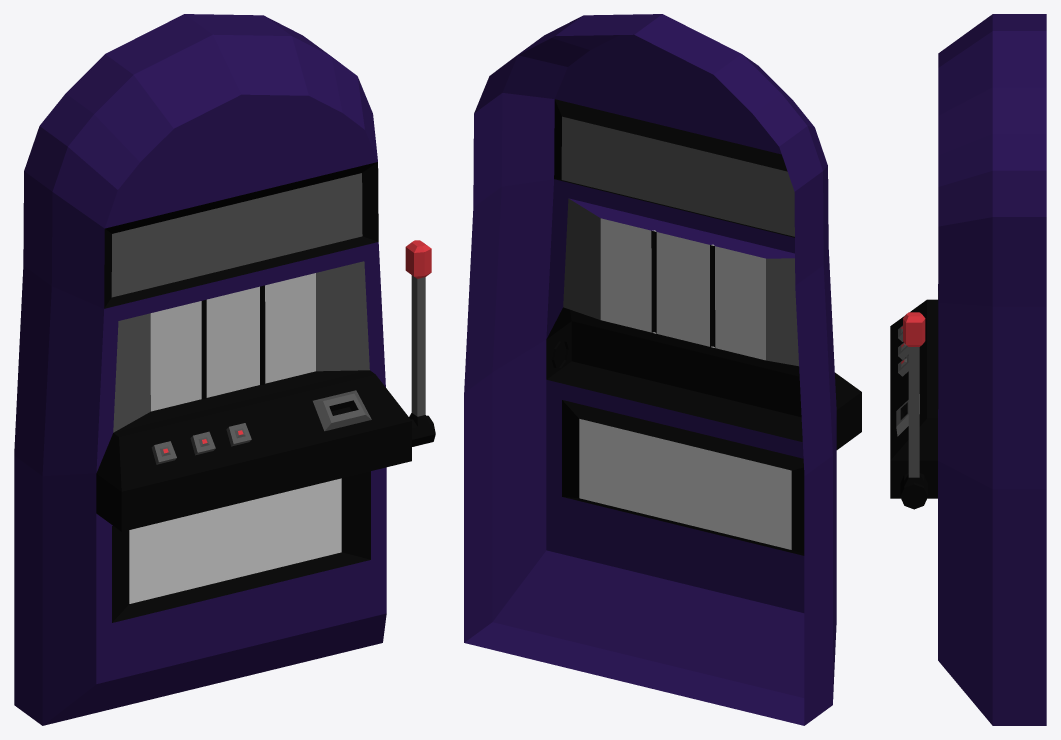
File: Gambling Machine.fbx
The picture shows the model from 3 angles, left to right: view 1: azimuth 30°, elevation 25°; view 2: azimuth 150°, elevation 25°; view 3: azimuth 270°, elevation 25°; orthographic projection. The views are drawn at different scales.
Parts seen in each view (by area): view 1: Plane.009, Plane.004, Plane.010; view 2: Plane.009, Plane.004; view 3: Plane.009, Plane.010.
Boxes of the visible parts, x1,y1,x2,y2 form: Plane.009: (14,14,411,725); Plane.004: (129,478,341,603); Plane.010: (405,240,435,446); Plane.009: (464,14,861,725); Plane.004: (579,419,791,549); Plane.009: (890,14,1046,725); Plane.010: (900,312,927,509).
Bounding box in the file's own units: 1.11 × 2 × 0.4592.
